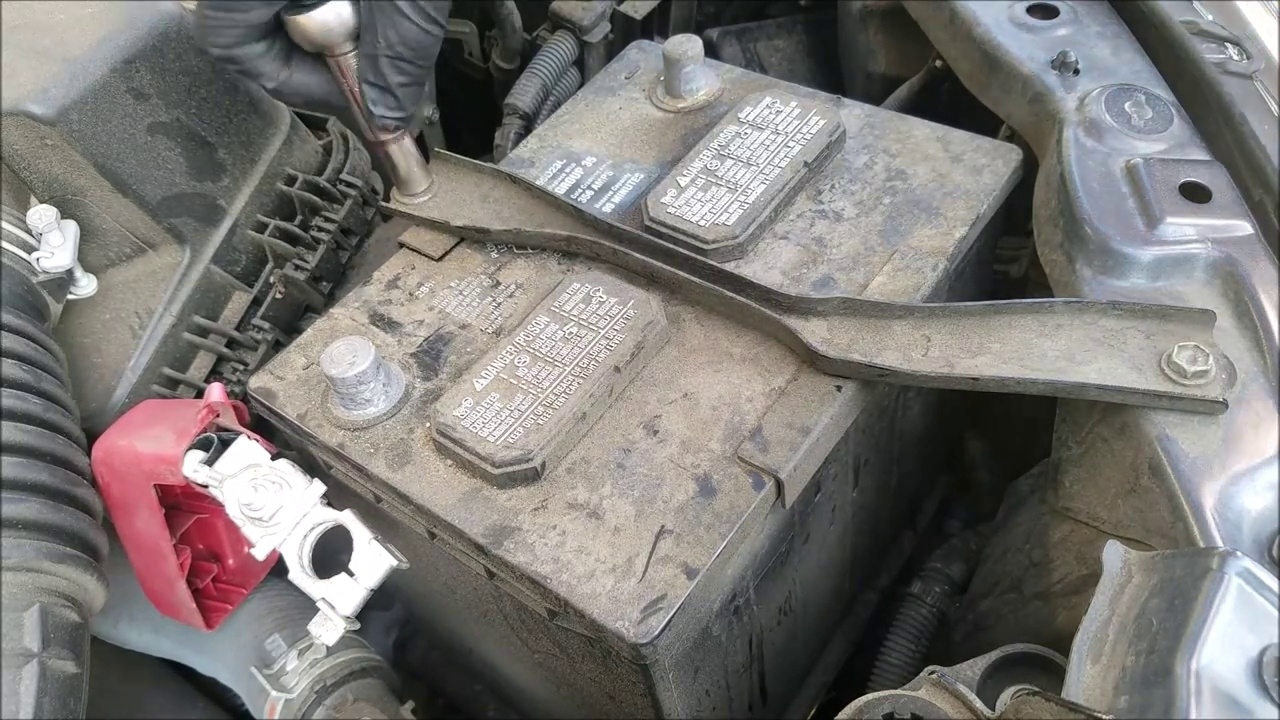battery: (232, 34, 1039, 646)
neg_disconnected: (618, 10, 753, 132)
pos_disconnected: (104, 304, 429, 637)
